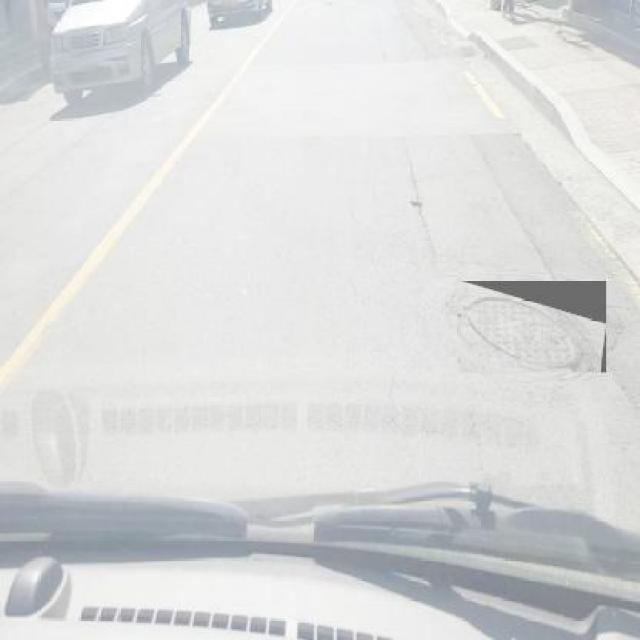Manhole: (457, 280, 606, 372)
